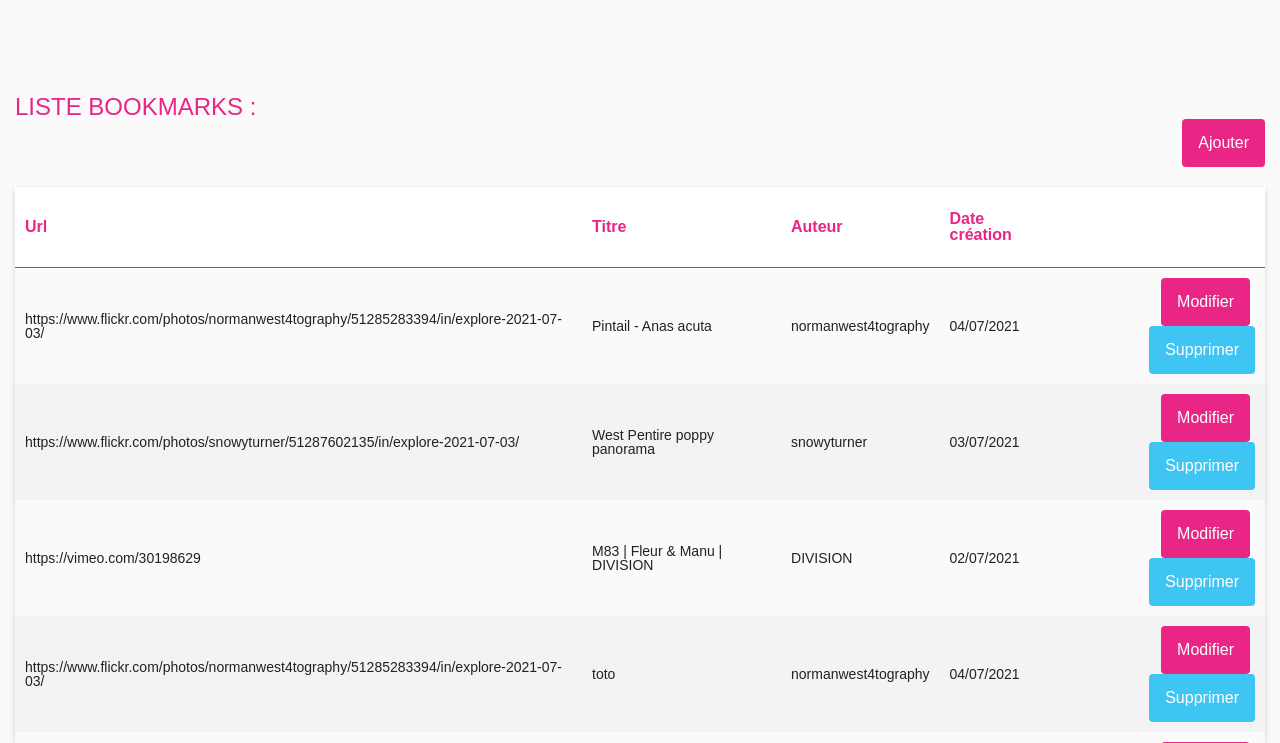
Test: Bookmark component › should open add modal
The width and height of the screenshot is (1280, 743).
Click the button "Ajouter" at [1224, 143], box [1182,119,1265,167]
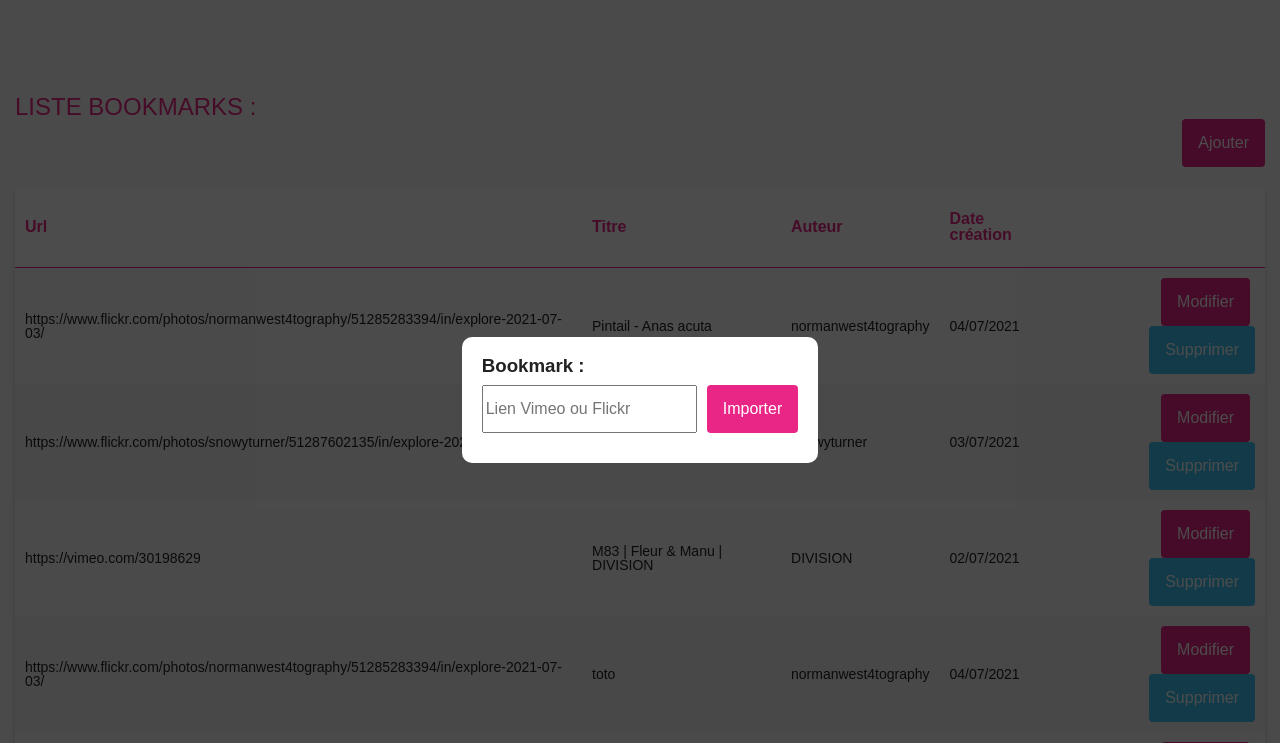
Expected: the heading "Bookmark :" is shown, [482,355,585,376]
